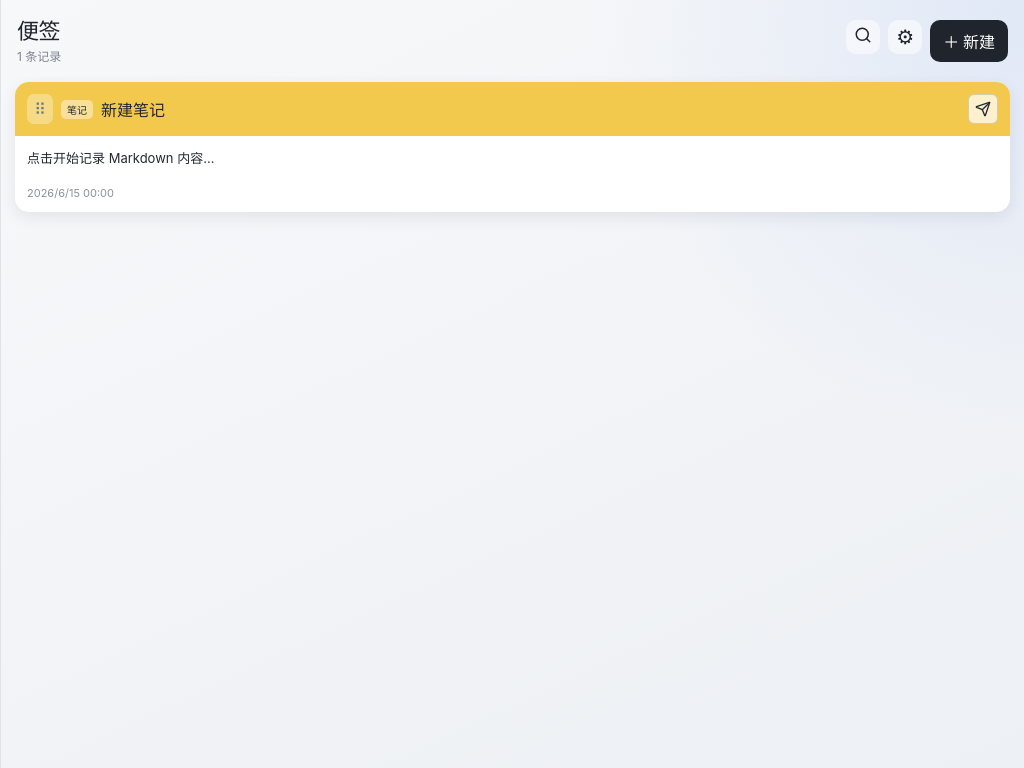
Test: App creation flow › shows visible feedback after sending a note from its title
Click the button named "发送到思源" at (983,109), box x1=968 y1=94 x2=998 y2=124
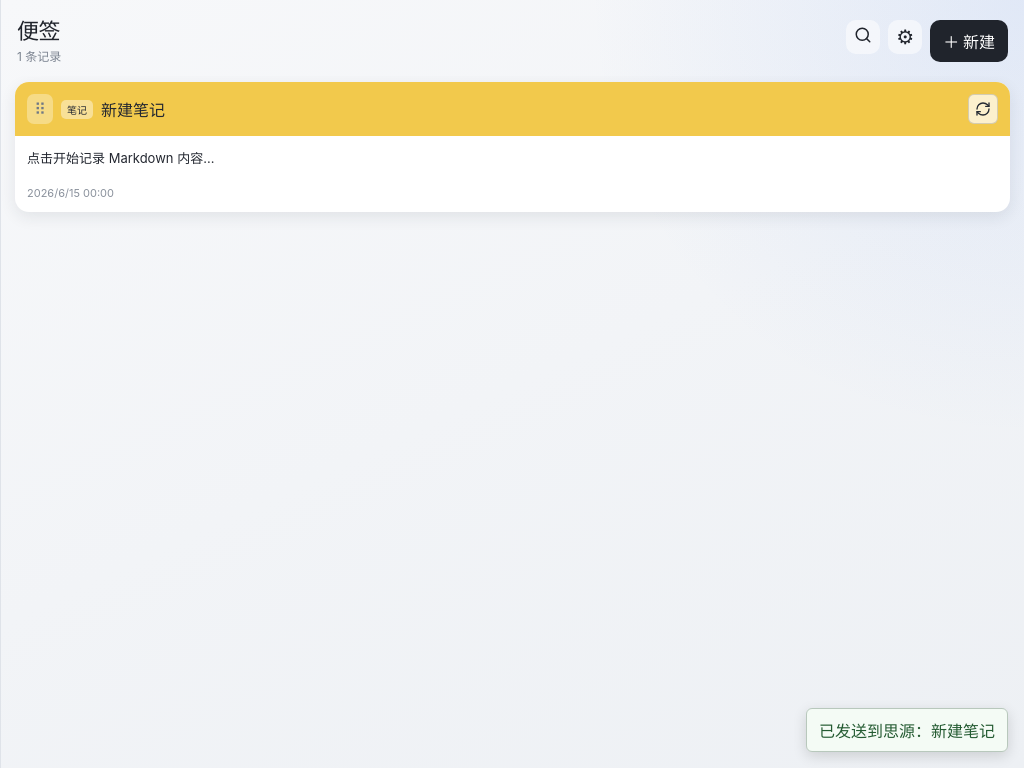
expect the message named "思源发送结果" reads "已发送到思源：新建笔记": met, box x1=819 y1=721 x2=995 y2=741
